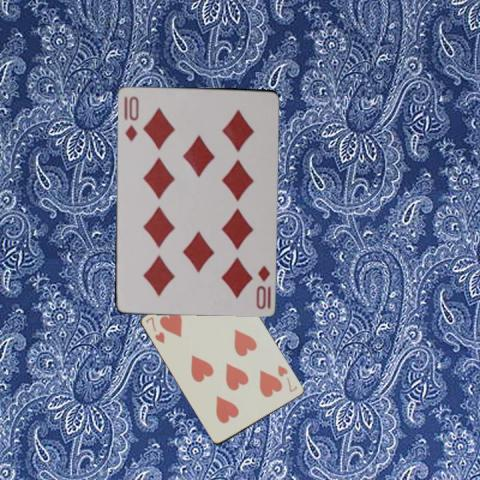10d: (253, 262, 272, 310), (122, 93, 140, 143)
7h: (142, 314, 167, 345), (275, 362, 299, 393)
